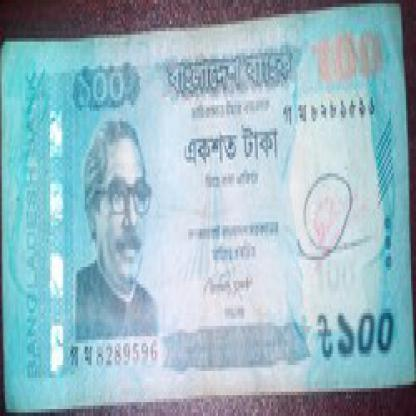one hundred taka: (310, 24, 392, 87), (333, 302, 396, 371), (72, 59, 136, 118)
